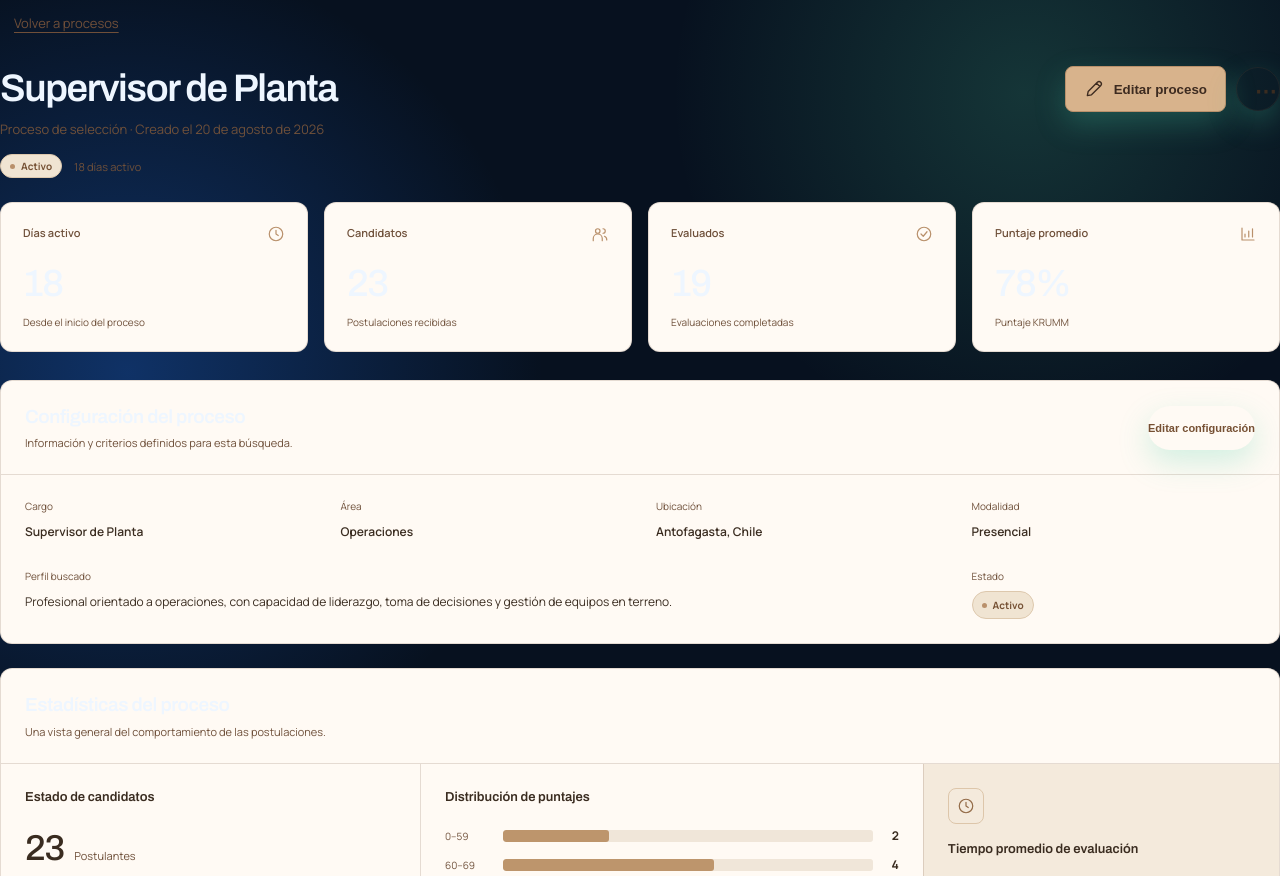
it: E. Acciones — diálogo preview + menú ⋯ › Edit configuration (panel) también abre el diálogo preview (ref)
The width and height of the screenshot is (1280, 876).
Click the button "Editar configuración". click: (1202, 428)
box: [1148,406,1255,450]
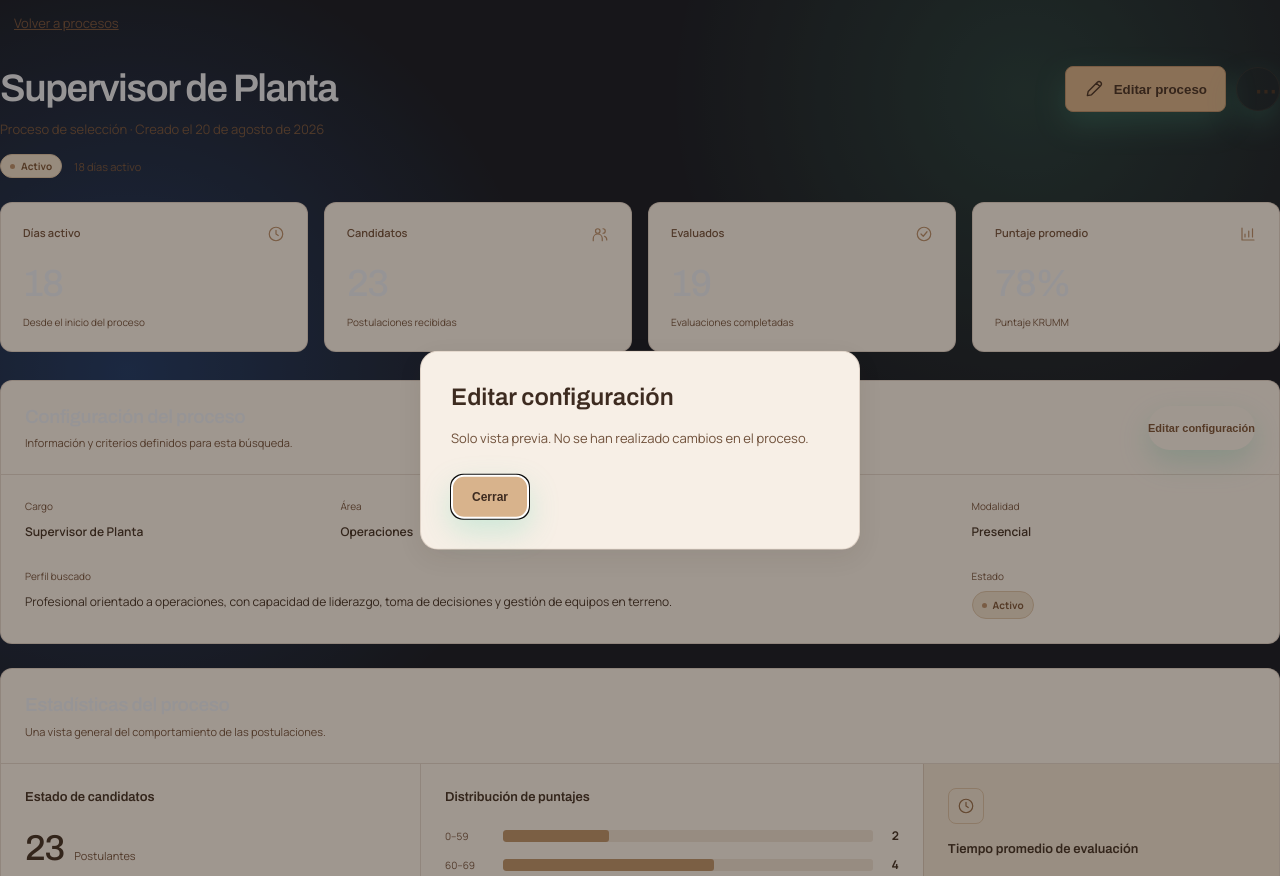
Expected: the heading "Editar configuración" is shown, [451,384,674,410]
Expected: the text "Solo vista previa. No se han realizado cambios en el proceso." is shown, [451,427,829,450]
